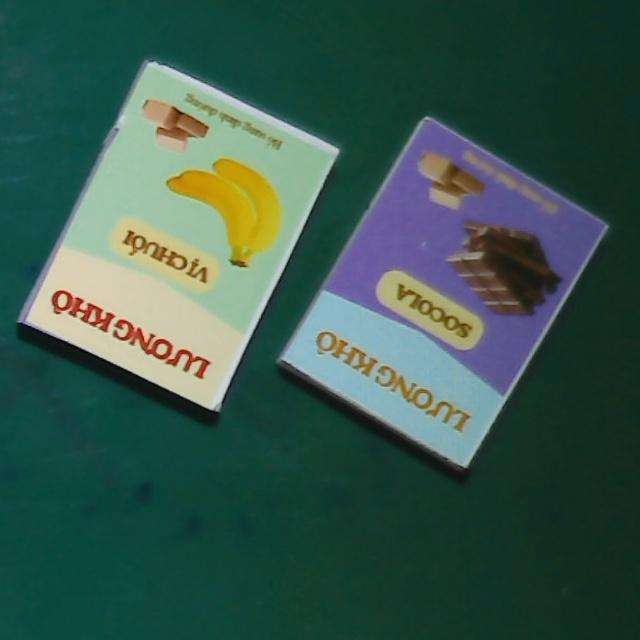chuoi: (16, 52, 341, 414)
socola: (274, 113, 610, 474)
